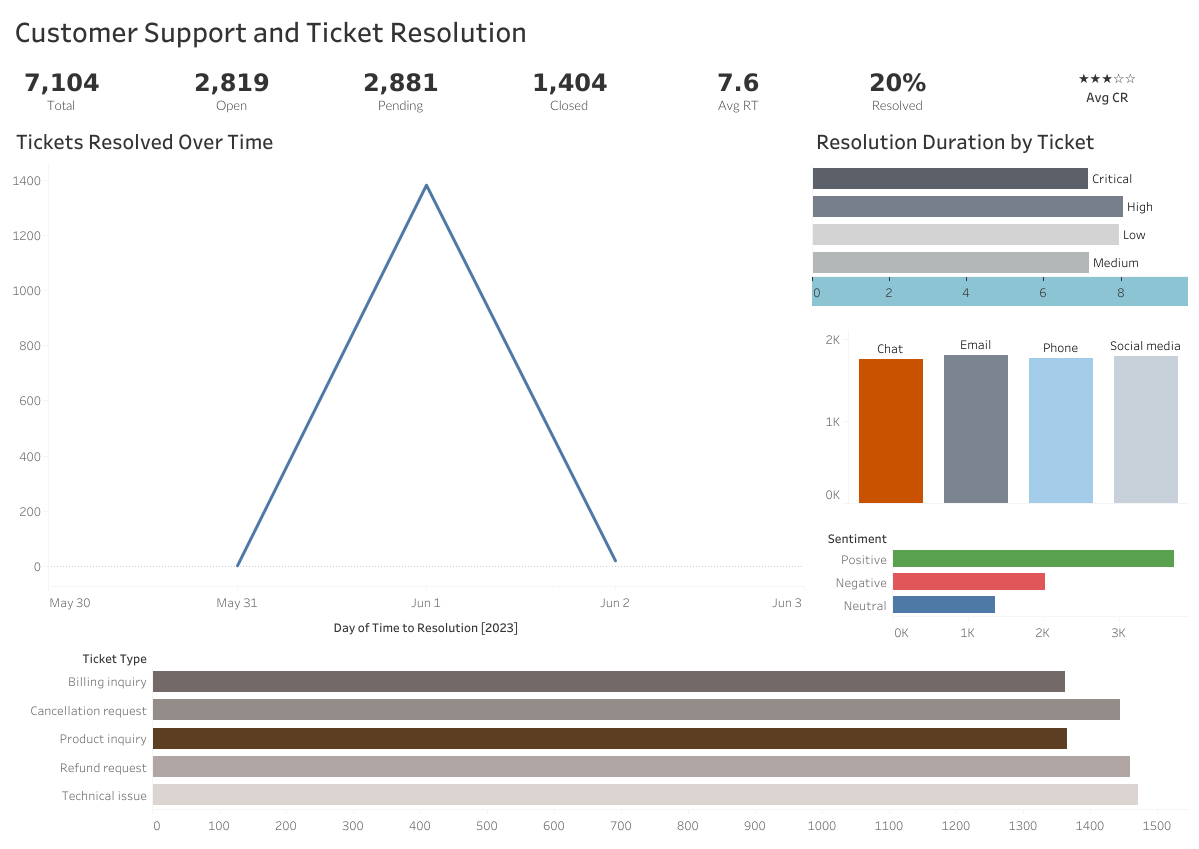

Layout of this report page (visuals, bound fields, positions):
{"tool":"tableau","page":{"name":"Customer Support &Ticket Resolution Dashboard","canvas":[1200,850],"ordinal":0},"visuals":[{"type":"title","box":[8,8,1184,45]},{"type":"blank","box":[8,53,1184,10]},{"type":"worksheet","title":"Total Tickets","mark":"Automatic","box":[8,63,170,51]},{"type":"worksheet","title":"Open Tickets","mark":"Automatic","box":[178,63,169,51]},{"type":"worksheet","title":"Pending Tickets","mark":"Automatic","box":[347,63,169,51]},{"type":"worksheet","title":"Closed Tickets","mark":"Automatic","box":[516,63,169,51]},{"type":"worksheet","title":"Avg Resolution Time","mark":"Automatic","box":[685,63,169,51]},{"type":"worksheet","title":"% Resolved","mark":"Automatic","box":[854,63,169,51]},{"type":"worksheet","title":"Avg Customer Rating","mark":"Automatic","box":[1023,63,169,51]},{"type":"worksheet","title":"Tickets Resolved Over Time","mark":"Automatic","rows":["Ticket ID"],"cols":["Time to Resolution"],"box":[8,114,800,533]},{"type":"worksheet","title":"Resolution Duration by Ticket","mark":"Automatic","rows":["Ticket Priority"],"cols":["Resolution Duration(hrs)"],"box":[808,114,384,193]},{"type":"worksheet","title":"Ticket Volume by Channel","mark":"Automatic","rows":["Ticket ID"],"cols":["Ticket Channel"],"box":[808,307,384,200.1]},{"type":"worksheet","title":"Sentiment Distribution","mark":"Automatic","rows":["Sentiment"],"cols":["Ticket ID"],"box":[808,507,384,140]},{"type":"worksheet","title":"Ticket Types by Volume","mark":"Automatic","rows":["Ticket Type"],"cols":["Number of Tickets"],"box":[8,647,1184,195]}]}

Visuals, with their boxes in screenshot pixels (x1, y1, x2, y2), scaled from the page's 1200x850 canvas onto the 1199x849 screenshot:
title: left=8, top=8, right=1191, bottom=53
blank: left=8, top=53, right=1191, bottom=63
"Total Tickets" worksheet: left=8, top=63, right=178, bottom=114
"Open Tickets" worksheet: left=178, top=63, right=347, bottom=114
"Pending Tickets" worksheet: left=347, top=63, right=516, bottom=114
"Closed Tickets" worksheet: left=516, top=63, right=684, bottom=114
"Avg Resolution Time" worksheet: left=684, top=63, right=853, bottom=114
"% Resolved" worksheet: left=853, top=63, right=1022, bottom=114
"Avg Customer Rating" worksheet: left=1022, top=63, right=1191, bottom=114
"Tickets Resolved Over Time" worksheet: left=8, top=114, right=807, bottom=646
"Resolution Duration by Ticket" worksheet: left=807, top=114, right=1191, bottom=307
"Ticket Volume by Channel" worksheet: left=807, top=307, right=1191, bottom=507
"Sentiment Distribution" worksheet: left=807, top=506, right=1191, bottom=646
"Ticket Types by Volume" worksheet: left=8, top=646, right=1191, bottom=841
